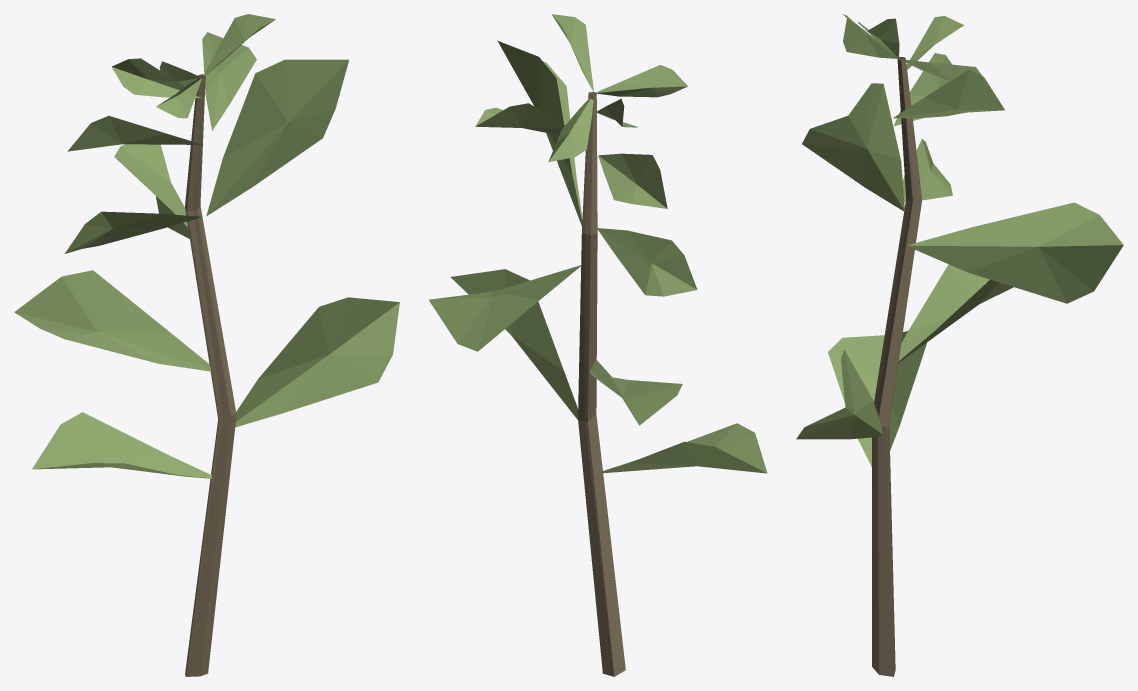
Rendered from Peach_1_4.fbx.
3 views of the same model, side by side, from view 1: azimuth 30°, elevation 25°; view 2: azimuth 150°, elevation 25°; view 3: azimuth 270°, elevation 25° (orthographic). The views are drawn at different scales.
Parts seen in each view (by area): view 1: Peach_1_4; view 2: Peach_1_4; view 3: Peach_1_4.
Boxes of the visible parts, x1,y1,x2,y2 form: Peach_1_4: [14, 14, 399, 676]; Peach_1_4: [429, 14, 767, 676]; Peach_1_4: [796, 14, 1123, 676].
Bounding box in the file's own units: 51.89 × 93.13 × 40.56.
